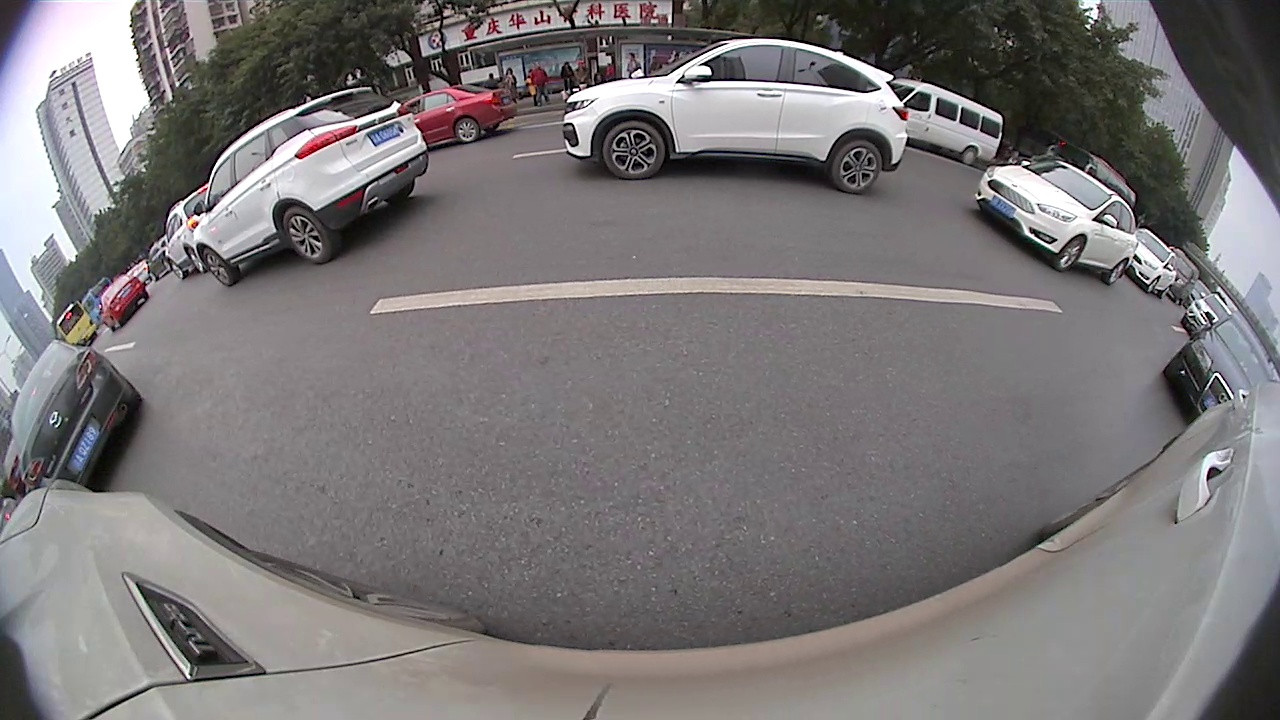car: (561, 38, 910, 193), (189, 85, 429, 288), (973, 158, 1137, 286), (12, 339, 141, 489), (1163, 312, 1267, 417), (891, 78, 1004, 168), (398, 82, 520, 146), (164, 188, 218, 279), (1127, 227, 1177, 297), (98, 273, 149, 331)
front: (602, 122, 665, 180), (201, 247, 238, 288), (1055, 233, 1087, 274), (167, 259, 188, 279), (1146, 274, 1160, 294)
rear: (282, 208, 333, 265), (830, 140, 882, 193), (455, 117, 481, 144), (1106, 256, 1128, 285), (185, 246, 205, 275), (961, 145, 979, 167)
